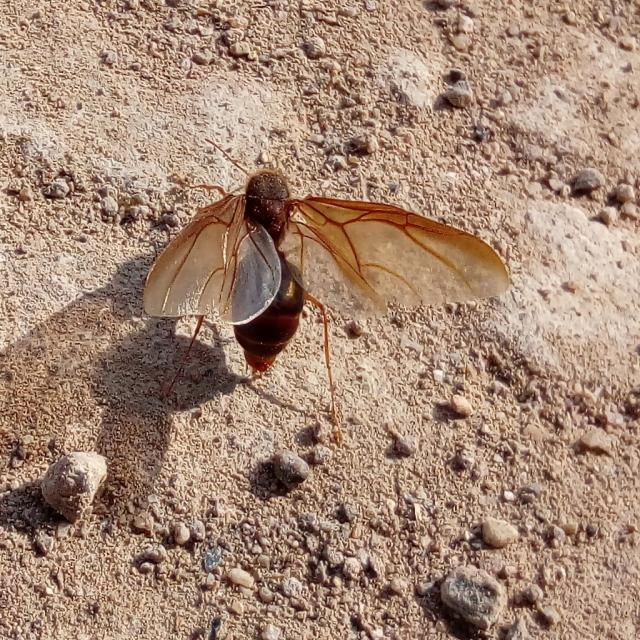Alive-Male-Alate: (142, 138, 510, 442)
